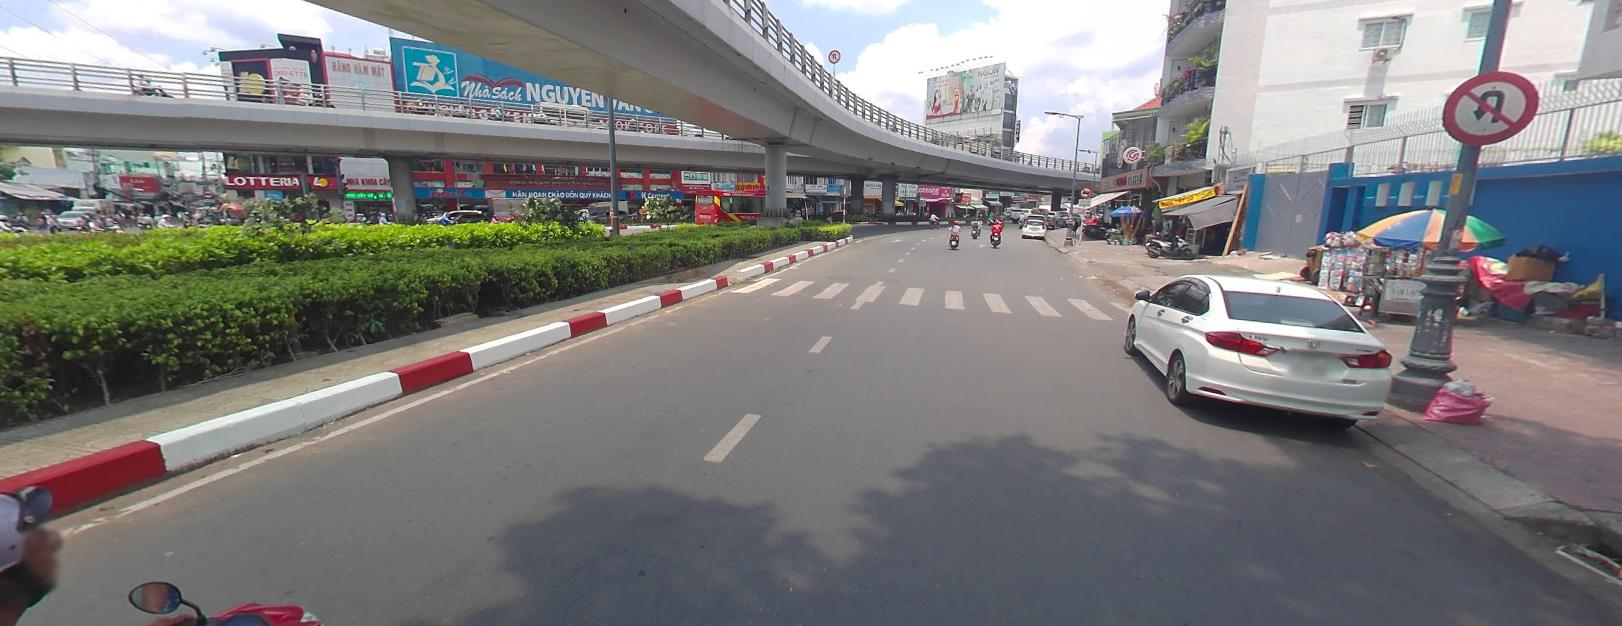Cam con lai: (1079, 184, 1091, 196)
Cam re: (1438, 64, 1541, 145), (827, 48, 841, 63)
